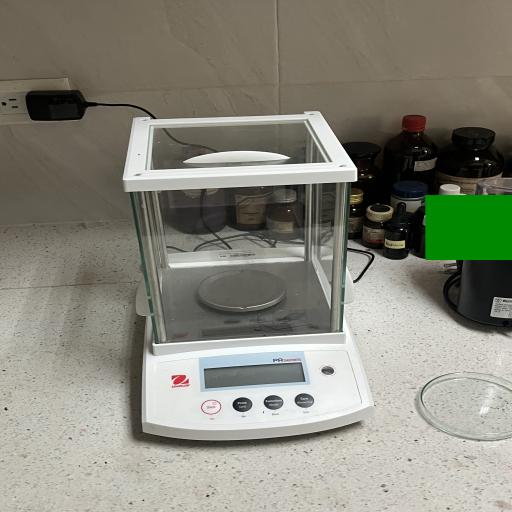Balanza_Analitica_Ohaus: (107, 107, 387, 455)
